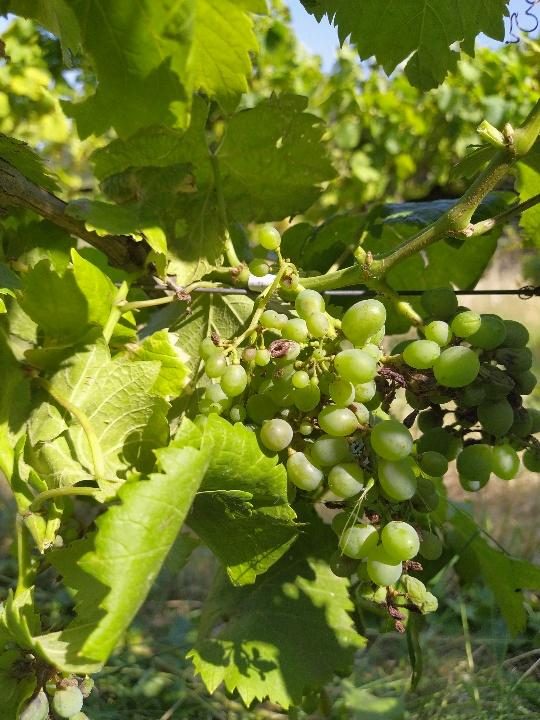grape: (198, 225, 449, 636), (398, 286, 538, 497)
